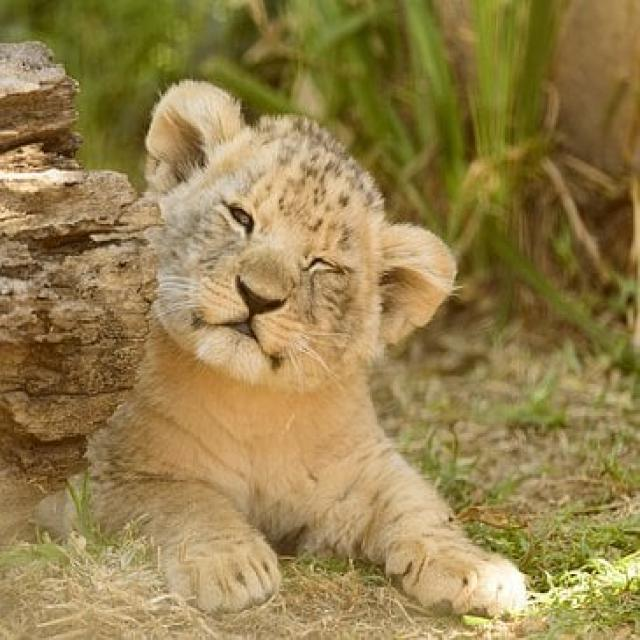Lion: (75, 75, 527, 629)
